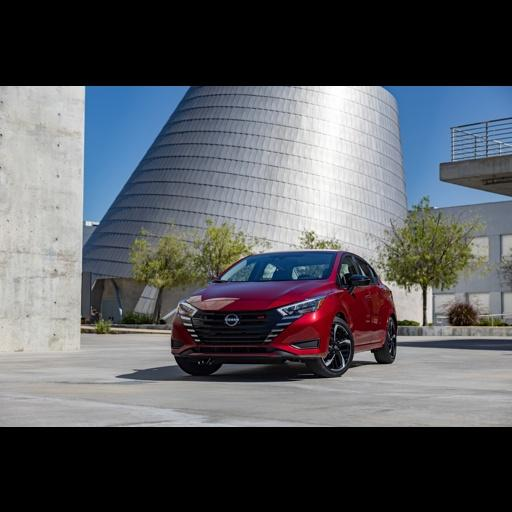hatchback: (170, 249, 396, 376)
